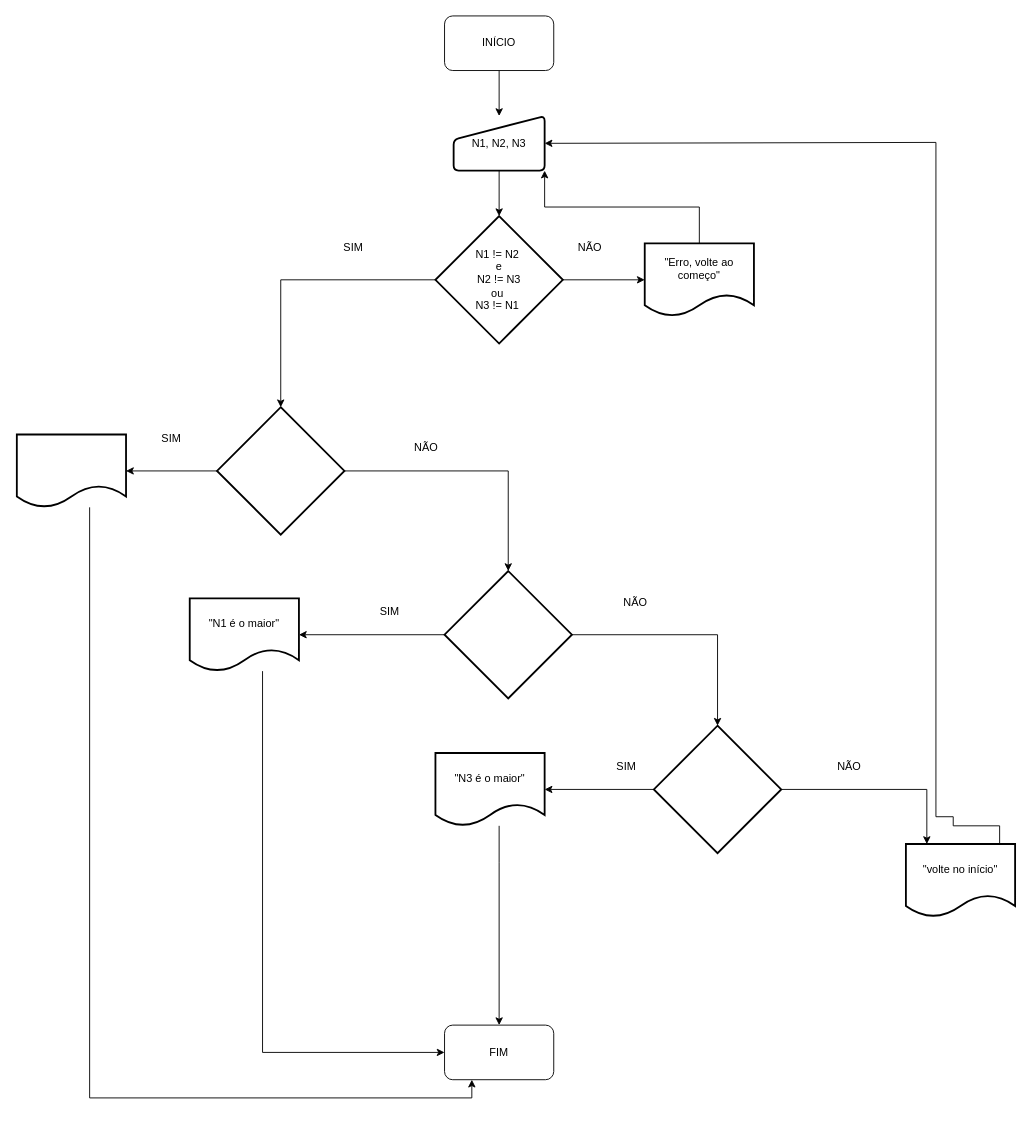
This 1031x1121 diagram has some shape labels left out. Each missing label, with the centre of its shape:
" N2 é maior": [70,470]
N1 < N2 e N2 > N3: [280,470]
N2 < N1 e N1 > N3: [507,634]
N2 < N3 e N3 > N1: [717,789]
